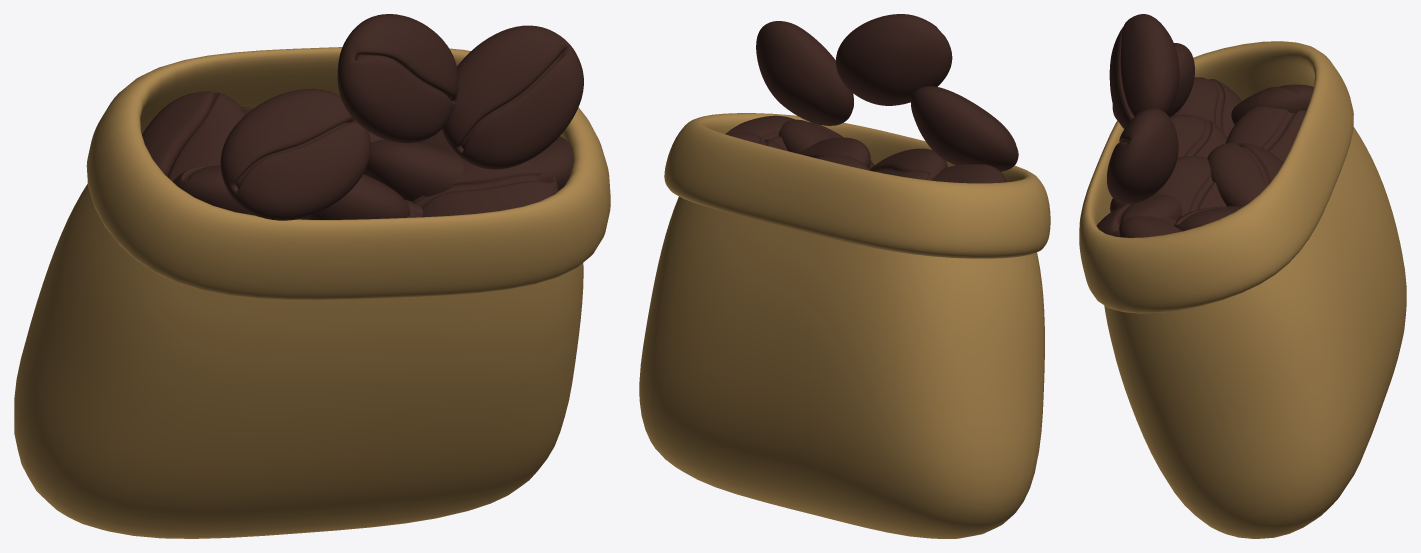
Rendered from coffee-sack.glb.
3 renders of one model, left to right at view 1: azimuth 30°, elevation 25°; view 2: azimuth 150°, elevation 25°; view 3: azimuth 270°, elevation 25°, orthographic. The views are drawn at different scales.
Visible parts, largest first — view 1: Cube.001, Cube.017, Cube.019, Cube.018, Cube.014, Cube.009, Cube.010, Cube.013, Cube.015, Cube.008; view 2: Cube.001, Cube.018, Cube.019, Cube.017, Cube.013, Cube.009, Cube.010, Cube.015, Cube.008; view 3: Cube.001, Cube.018, Cube.019, Cube.006, Cube.003, Cube.010, Cube.015, Cube.013, Cube.014, Cube.009, Cube.008, Cube.017 (+1 smaller).
Part boxes in pixels (box(x1,y1,x2,y2)): Cube.001: box(14, 47, 610, 538); Cube.017: box(220, 88, 370, 220); Cube.019: box(441, 25, 583, 169); Cube.018: box(337, 14, 458, 143); Cube.014: box(142, 91, 245, 181); Cube.009: box(412, 156, 558, 217); Cube.010: box(363, 139, 463, 201); Cube.013: box(300, 174, 410, 219); Cube.015: box(173, 165, 252, 215); Cube.008: box(533, 136, 573, 190); Cube.001: box(639, 113, 1050, 538); Cube.018: box(836, 14, 952, 105); Cube.019: box(756, 21, 853, 125); Cube.017: box(910, 86, 1018, 171); Cube.013: box(869, 148, 947, 180); Cube.009: box(778, 119, 874, 169); Cube.010: box(798, 137, 870, 168); Cube.015: box(931, 164, 1006, 183); Cube.008: box(725, 115, 794, 150); Cube.001: box(1079, 41, 1406, 538); Cube.018: box(1109, 14, 1179, 128); Cube.019: box(1107, 108, 1178, 204); Cube.006: box(1207, 142, 1283, 206); Cube.003: box(1226, 106, 1306, 162); Cube.010: box(1153, 156, 1226, 215); Cube.015: box(1173, 77, 1241, 137); Cube.013: box(1170, 114, 1227, 157); Cube.014: box(1231, 84, 1313, 124); Cube.009: box(1097, 194, 1182, 236); Cube.008: box(1119, 216, 1182, 237); Cube.017: box(1112, 43, 1194, 121).
Size of the model in its own units: 2.04 by 2.23 by 1.45.
